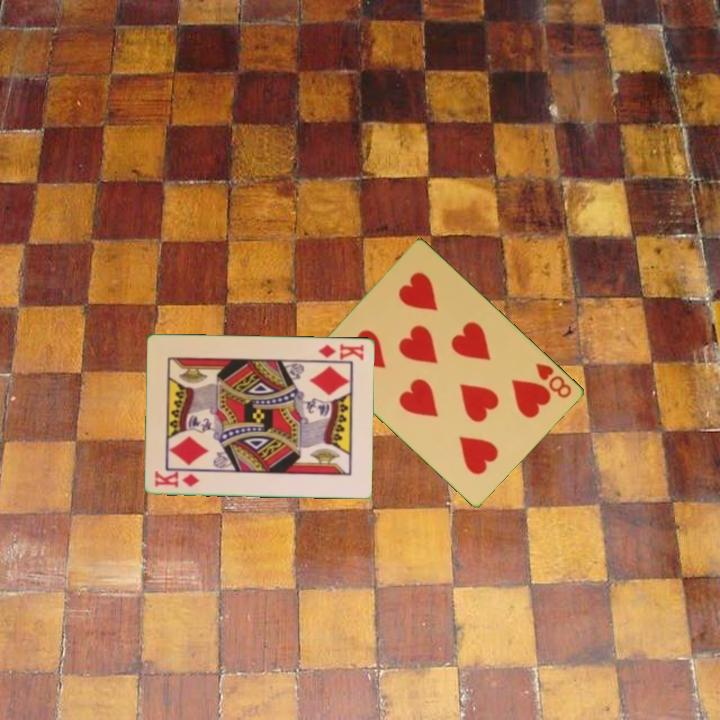8h: (532, 359, 575, 401)
Kd: (315, 340, 367, 363), (151, 468, 202, 490)
